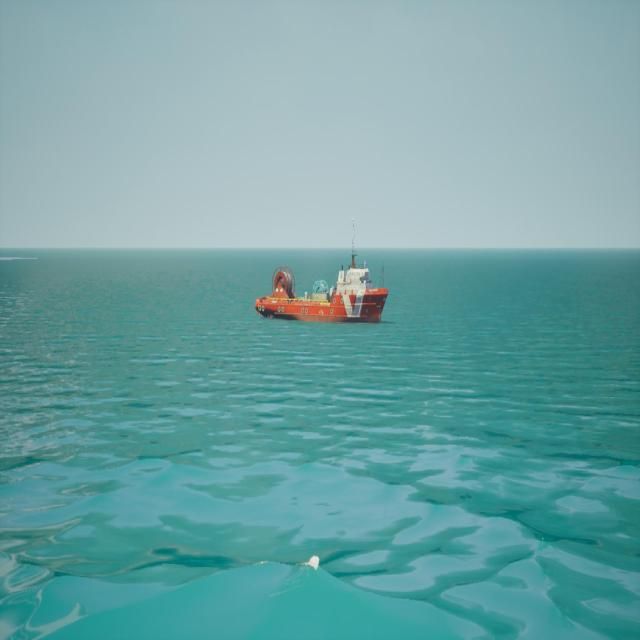tug boat: (257, 221, 389, 326)
